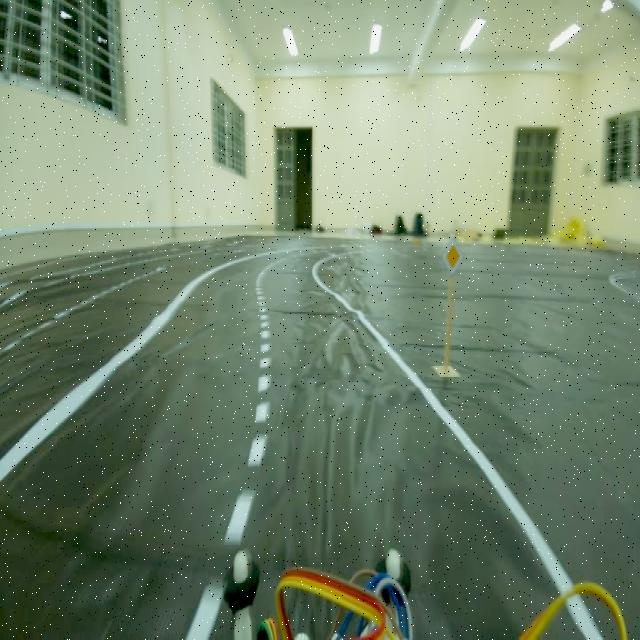priority: (442, 239, 460, 276)
